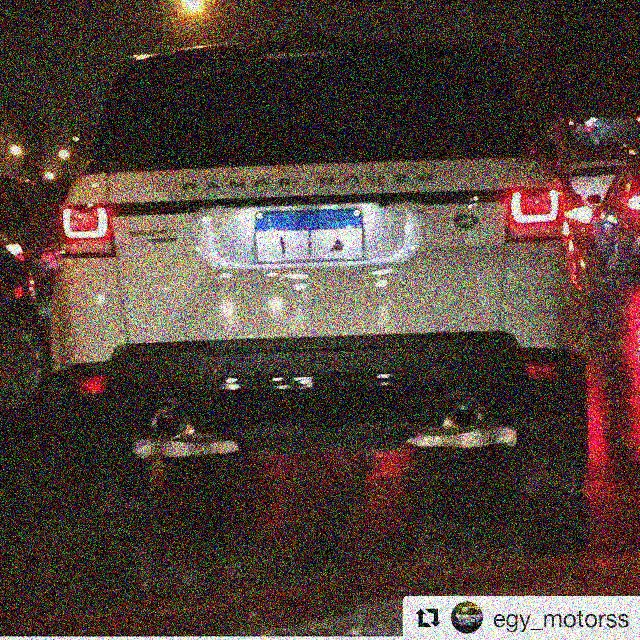License Plate: (252, 203, 367, 266)
